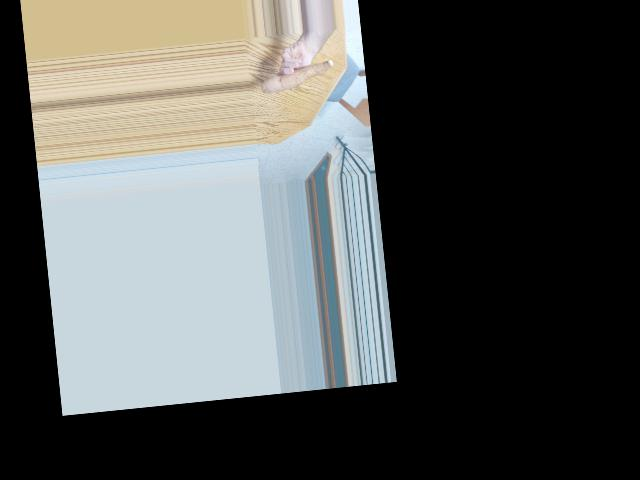sweet_potato: (260, 55, 334, 97)
